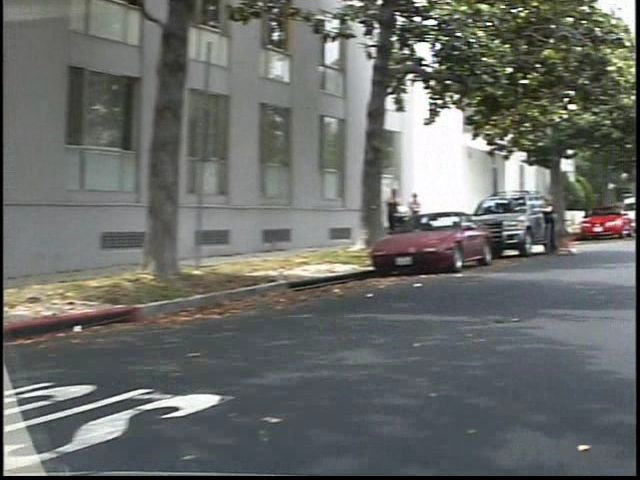person: (553, 191, 582, 260), (396, 181, 422, 248), (419, 187, 441, 243)
